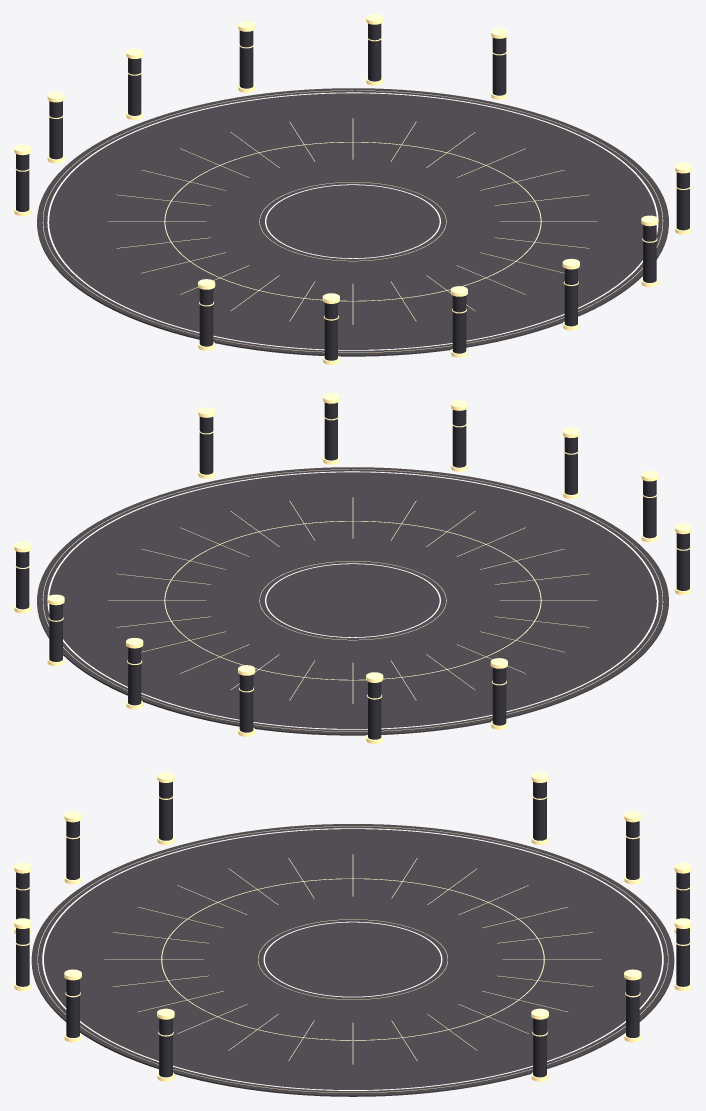
Rendered from mwd_arena.glb.
3 views of the same model, one above another, from view 1: azimuth 30°, elevation 25°; view 2: azimuth 150°, elevation 25°; view 3: azimuth 270°, elevation 25° (orthographic).
Parts seen in each view (by area): view 1: arena; view 2: arena; view 3: arena.
Boxes of the visible parts, left/top/right/bottom form: arena: left=14, top=14, right=691, bottom=364; arena: left=14, top=393, right=691, bottom=743; arena: left=14, top=772, right=691, bottom=1096.
Size of the model in its own units: 84 by 9.65 by 88.61.
